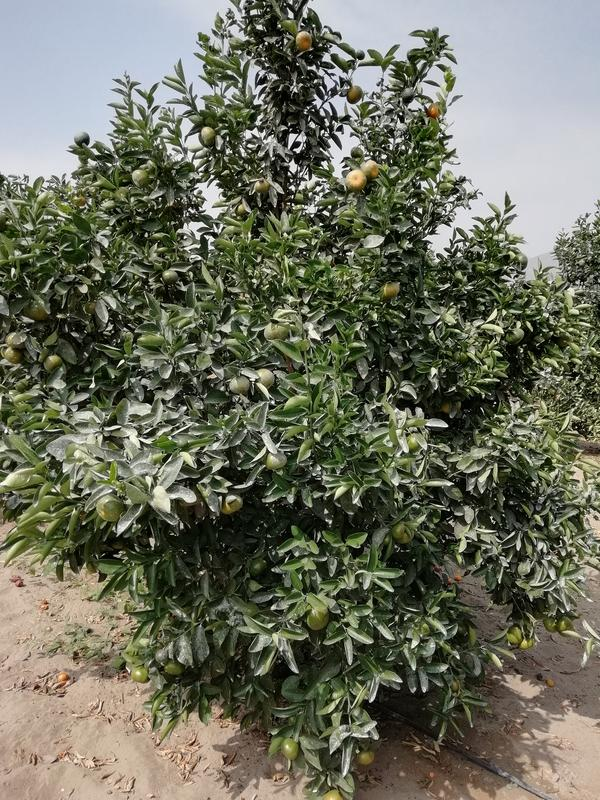mandarina naranja: (345, 170, 367, 192), (295, 31, 313, 50), (361, 161, 378, 177)
mandarina verde: (97, 495, 122, 522), (220, 493, 243, 515), (280, 738, 299, 761), (265, 451, 287, 470), (229, 376, 249, 394), (255, 369, 274, 387), (346, 85, 362, 105), (4, 347, 24, 363), (131, 667, 149, 683), (200, 127, 216, 144), (132, 169, 148, 186), (44, 355, 61, 370), (73, 131, 89, 146), (162, 270, 178, 284), (357, 752, 374, 764)
